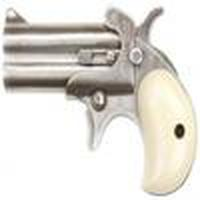gun: (2, 4, 197, 198)
